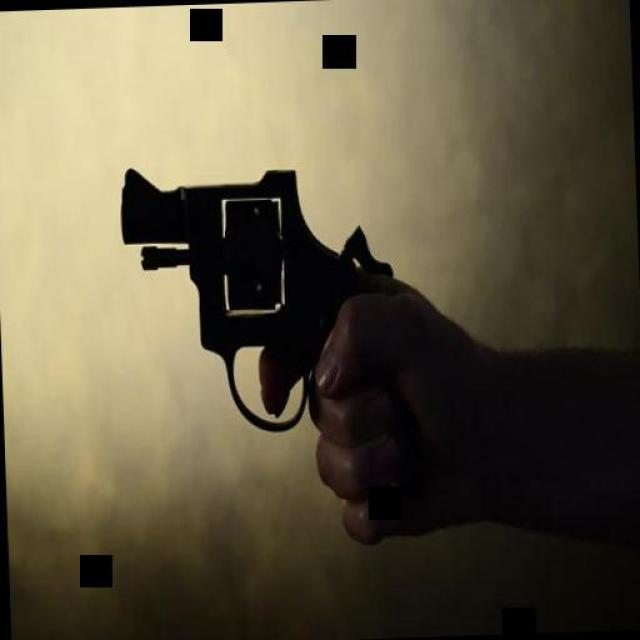gun: (116, 154, 404, 438)
